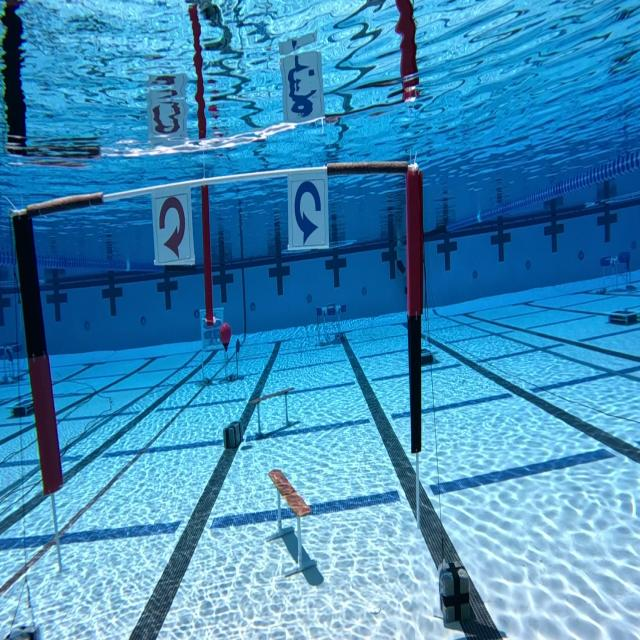blue_side: (286, 167, 331, 253)
red_side: (150, 184, 198, 268)
